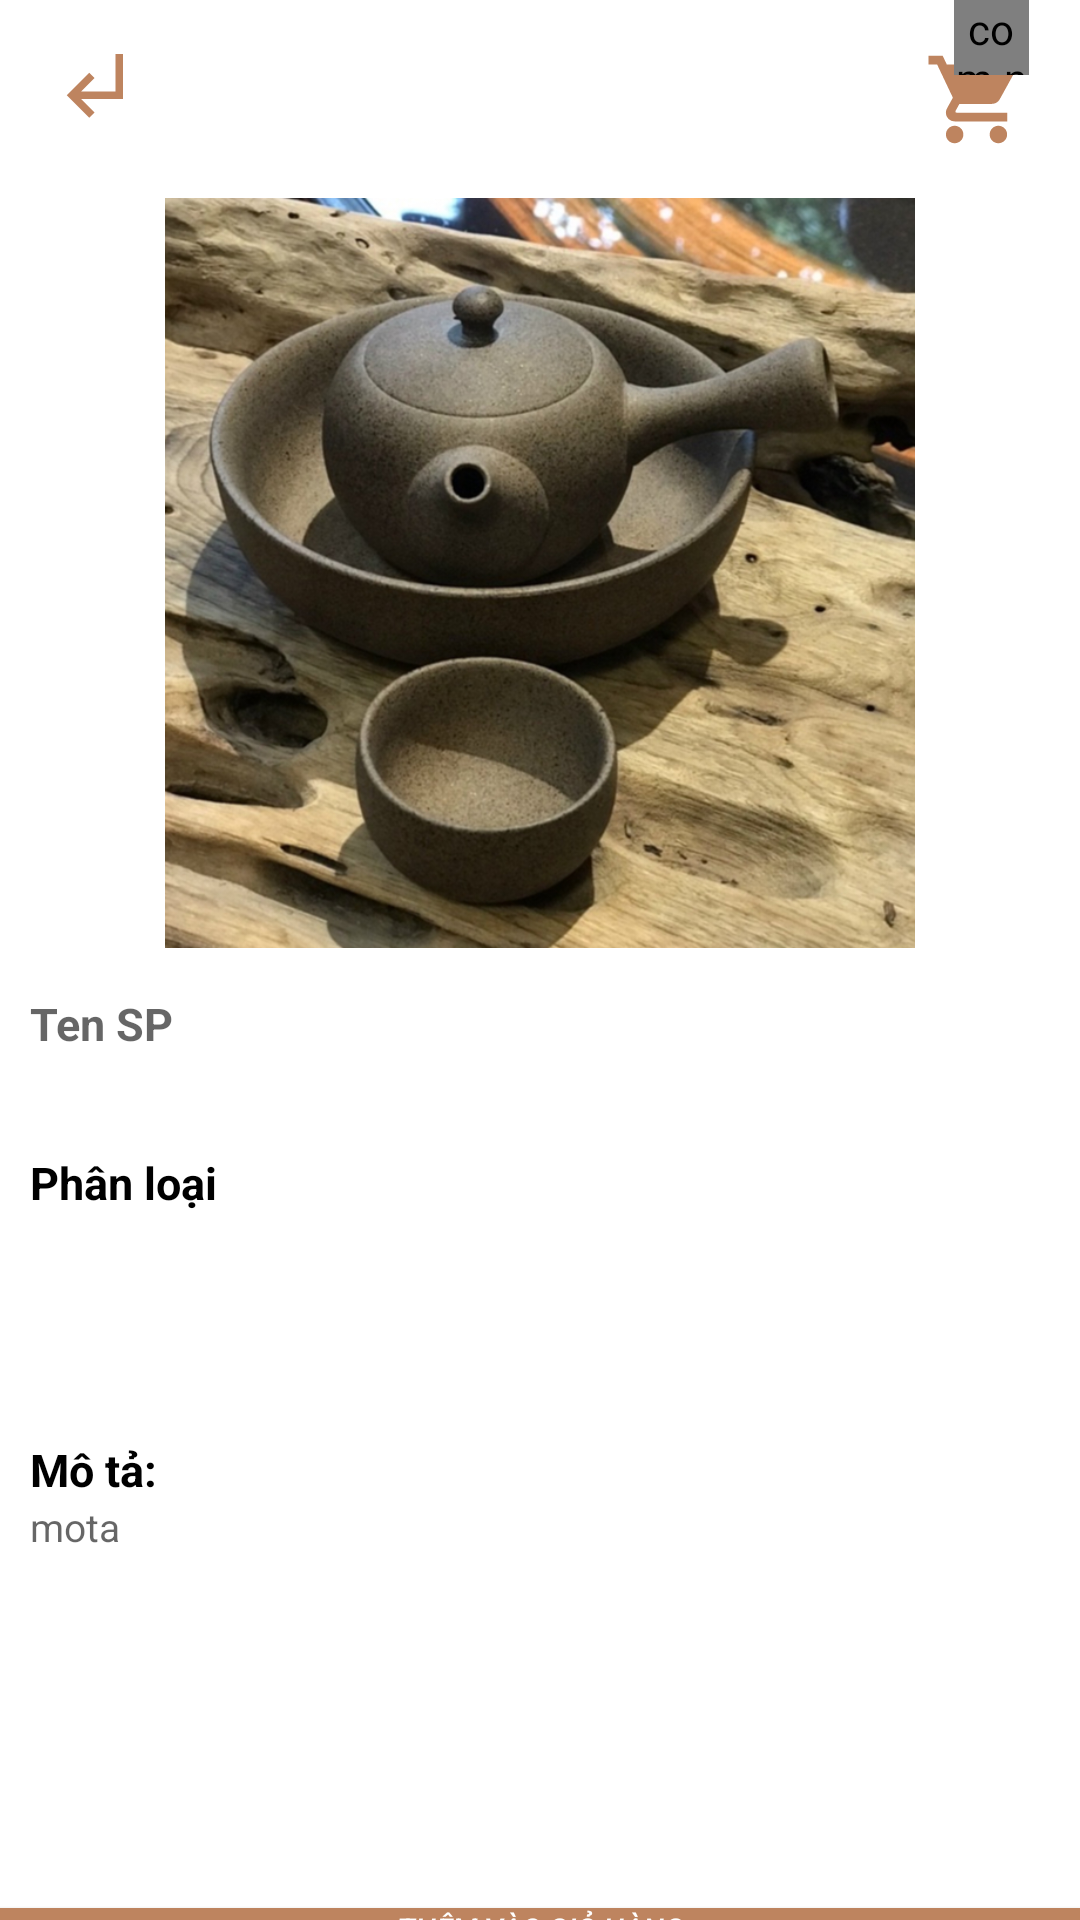

Where icons sit on this 1080px x 1920px app screen, as (x1, y1, x2, y2):
back: (67, 54, 123, 118)
